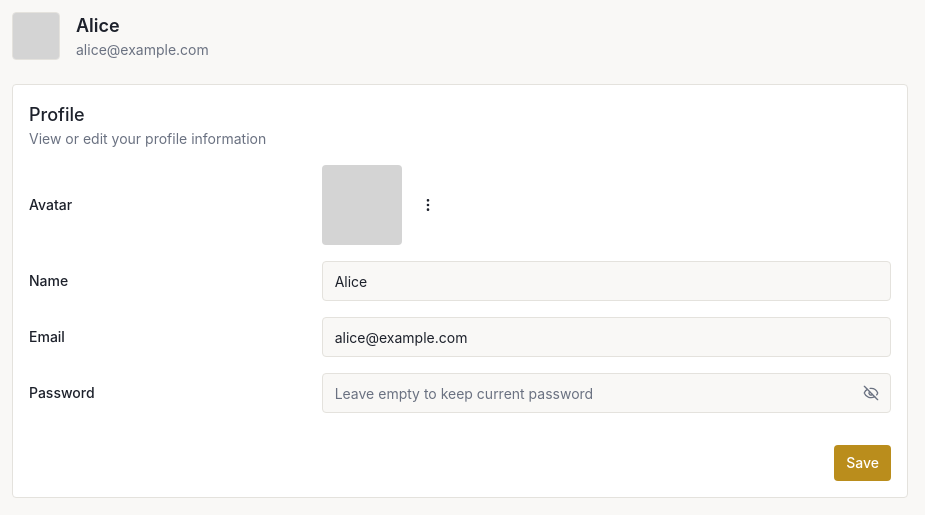
Test: Profile › toggles password visibility without changing its value
In the password field labelled "Password": (606, 393) [322,373,891,413], type "Secret123!"
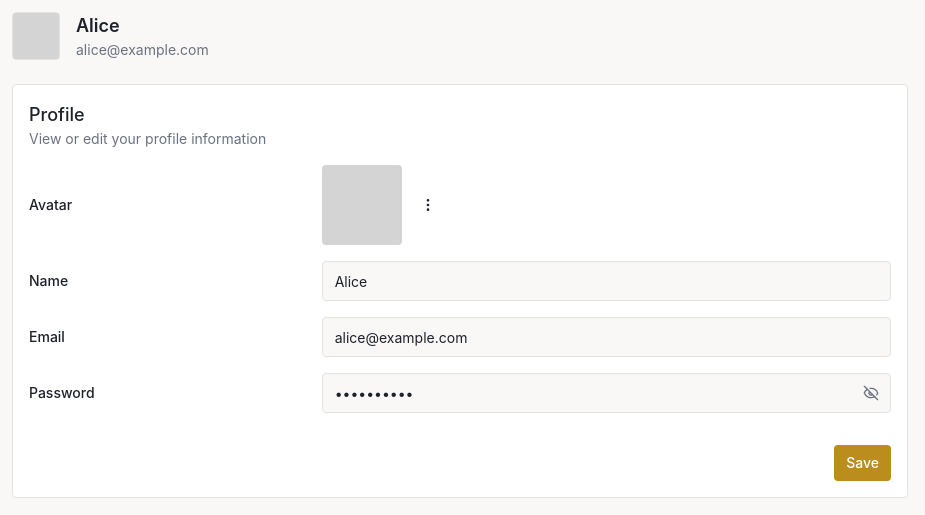
Click the button named "Show password": (871, 393) [859,381,883,405]
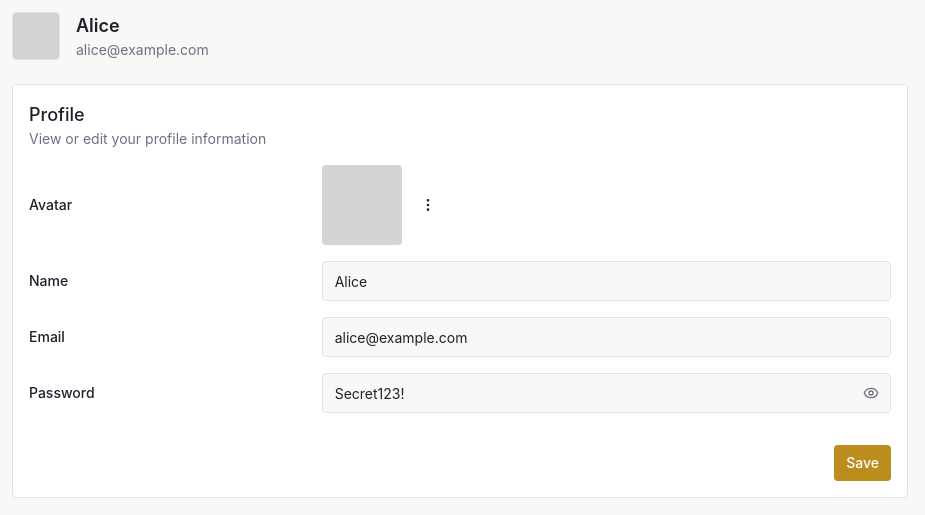
Check: the field labelled "Password" shows its text, box [322,373,891,413]
Click the button named "Hide password": (871, 393) [859,381,883,405]
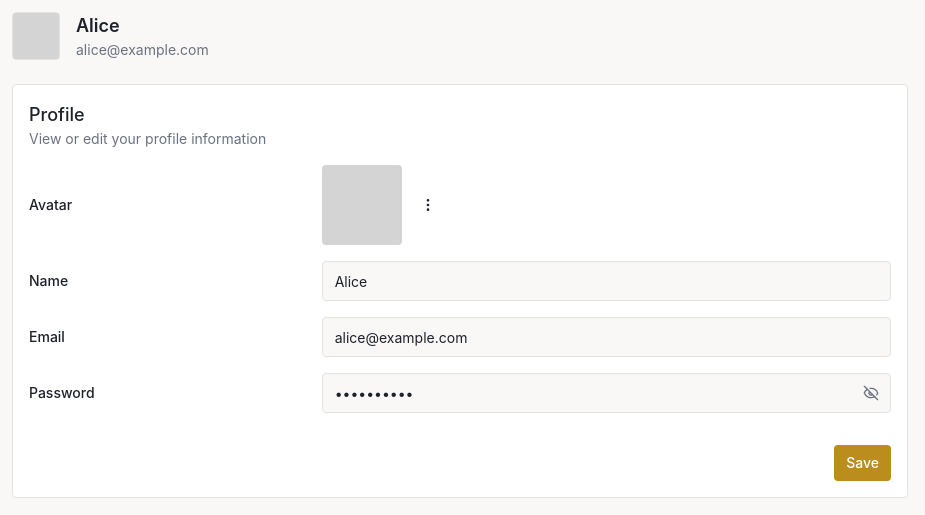
Check: the password field labelled "Password" hides its text, box [322,373,891,413]
